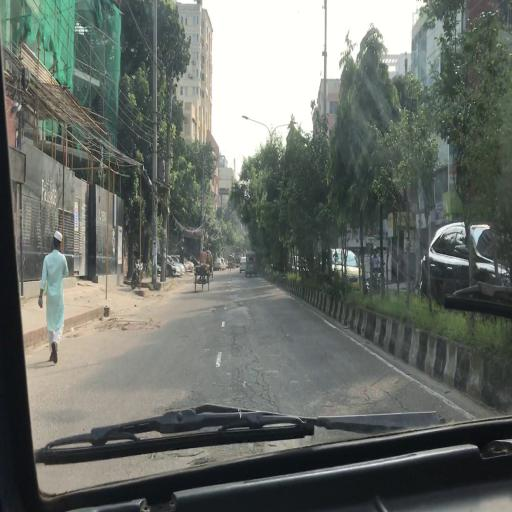car: (322, 247, 366, 295), (158, 255, 178, 278), (178, 255, 194, 273), (174, 258, 186, 274), (215, 259, 223, 270), (222, 259, 227, 270)
motorbike: (131, 255, 145, 289), (369, 266, 386, 294)
rickshaw: (207, 252, 214, 281)
suv: (421, 222, 512, 321)
three wheelers (CNG): (245, 251, 258, 278)
